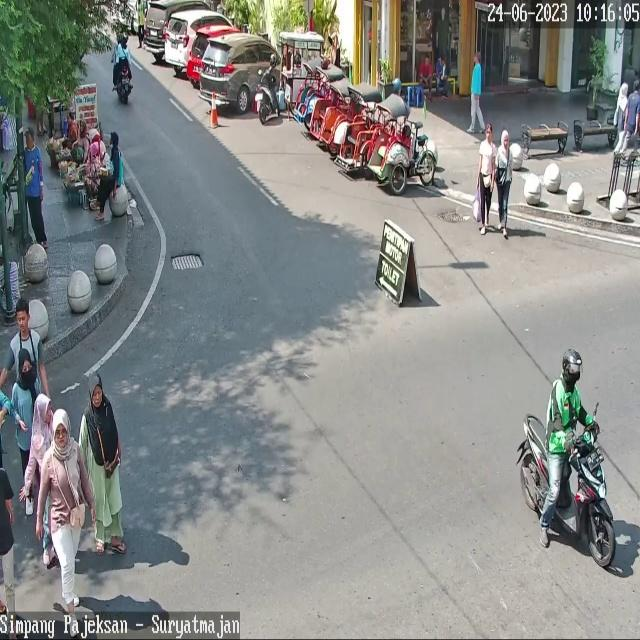bus: (516, 412, 618, 568), (117, 65, 133, 103)
motorcycle: (201, 34, 281, 113), (164, 9, 233, 67), (144, 0, 212, 54), (186, 24, 242, 82)
